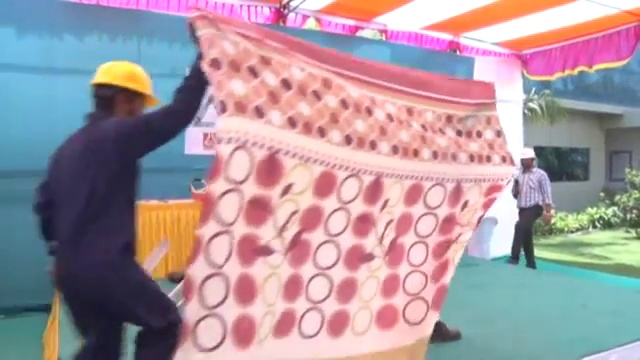helmet: (89, 60, 158, 105), (518, 145, 536, 160)
helmet_on: (88, 59, 159, 121), (517, 145, 536, 172)
person: (30, 48, 207, 360), (511, 145, 554, 270)
